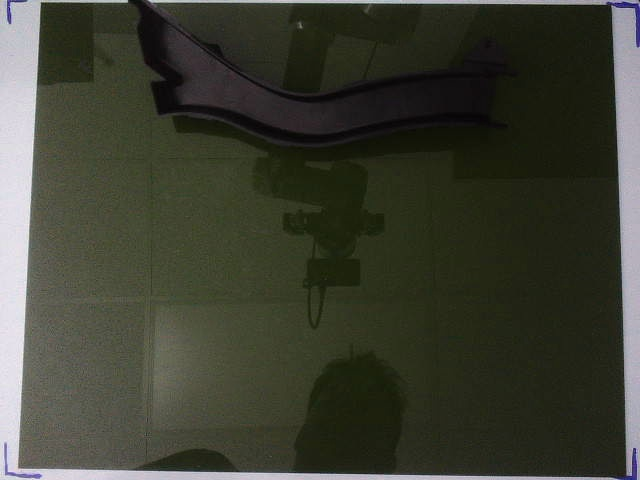887_A-Under: (132, 1, 518, 148)
